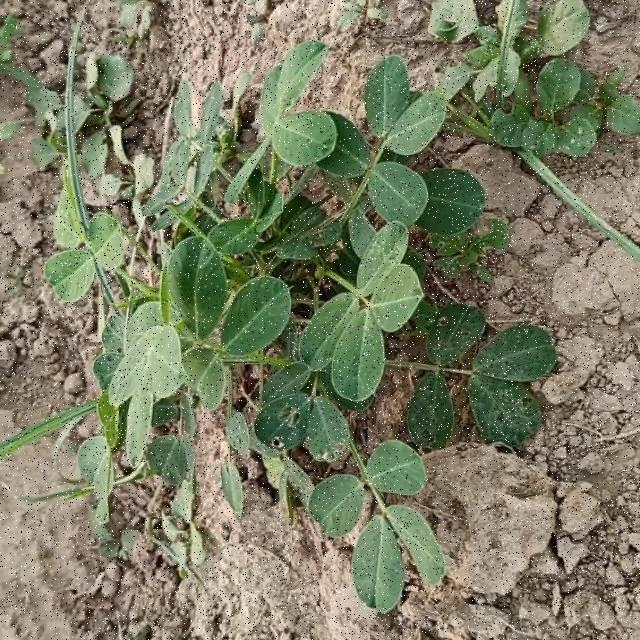plant: (1, 0, 639, 611)
